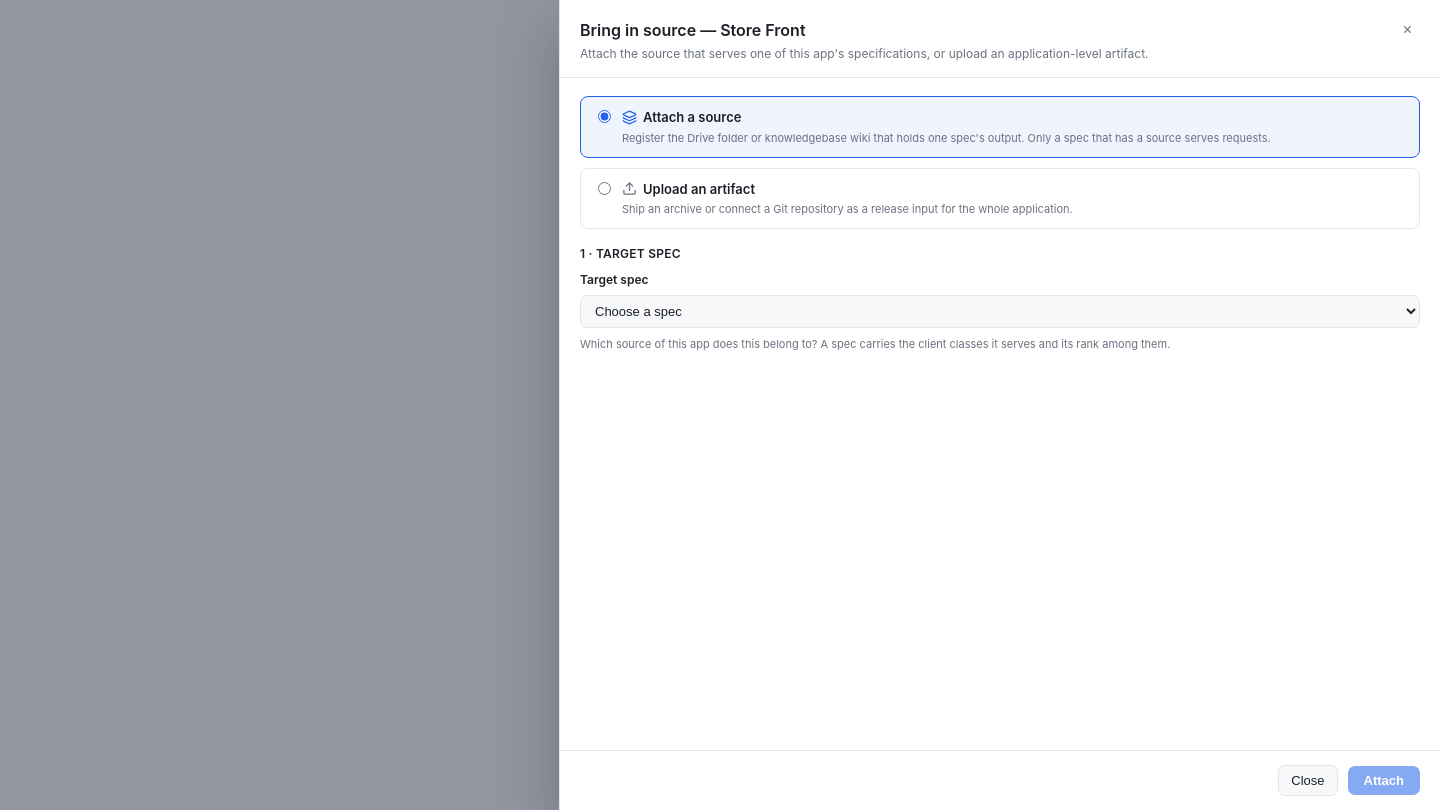
it: source-intake dialog — attach a source › asks for the target spec before it asks for the source
The image size is (1440, 810).
Expected: the text "2 · Source" is not shown
Select "web-pc · PC web" in the dropdown labelled "Target spec": (1000, 312) [580,295,1420,328]
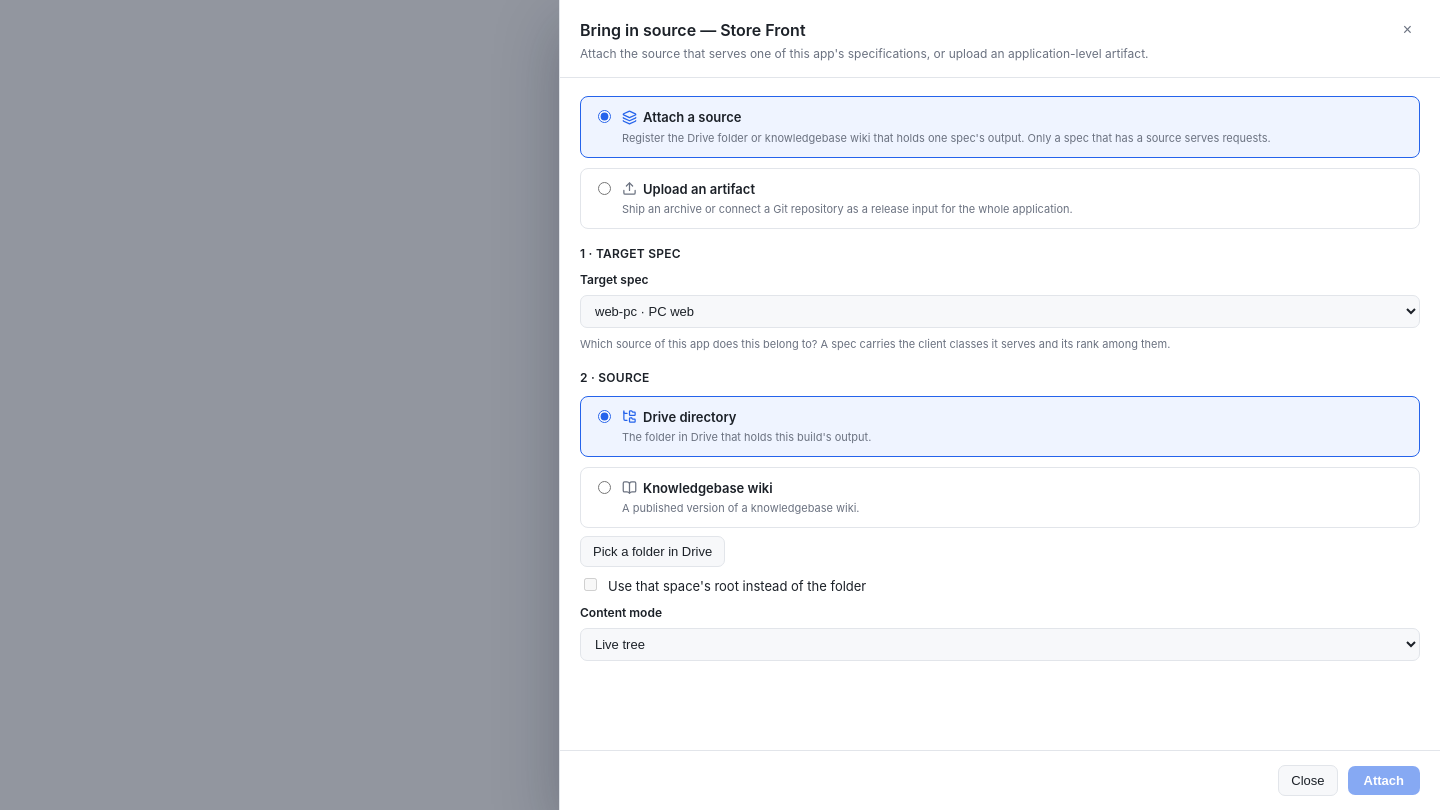
Now the text "2 · Source" is shown, box [580,370,650,385]
Now the 3rd radio button is checked, box [598,410,611,423]
